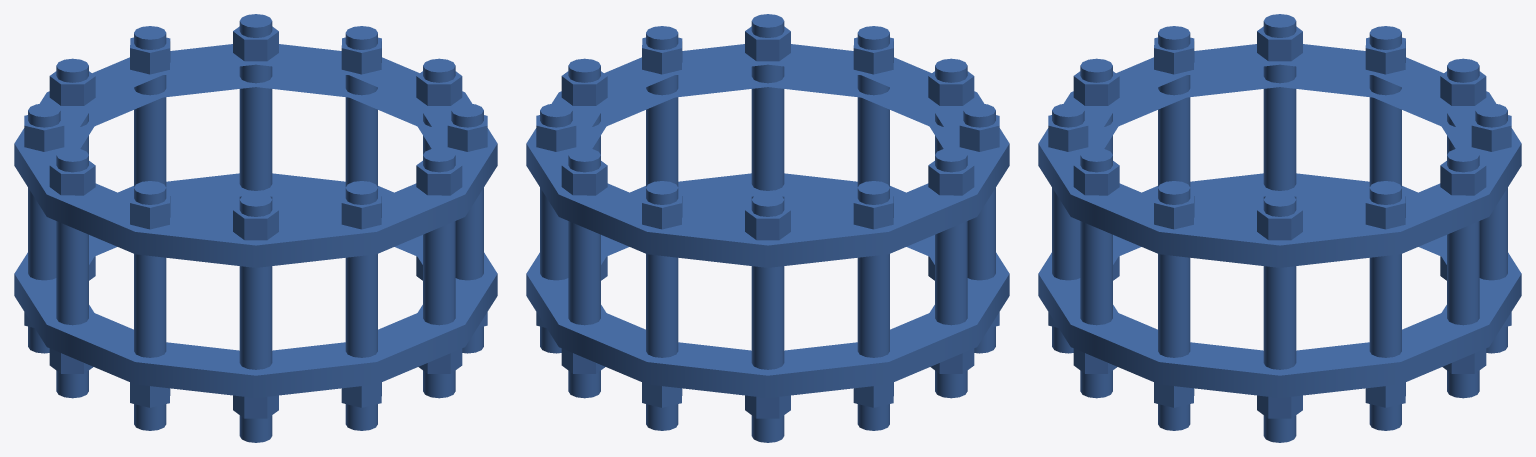
Rendered from SM_Pipe_InlineJoin_02.fbx.
The picture shows the model from 3 angles, left to right: view 1: azimuth 30°, elevation 25°; view 2: azimuth 150°, elevation 25°; view 3: azimuth 270°, elevation 25°; orthographic projection.
Parts seen in each view (by area): view 1: SM_Pipe_InlineJoin.002; view 2: SM_Pipe_InlineJoin.002; view 3: SM_Pipe_InlineJoin.002.
Part boxes in pixels (box(x1,y1,x2,y2)): SM_Pipe_InlineJoin.002: box(14, 14, 497, 442); SM_Pipe_InlineJoin.002: box(526, 14, 1009, 442); SM_Pipe_InlineJoin.002: box(1038, 14, 1521, 442).
Bounding box in the file's own units: 32.13 × 17.34 × 32.13.
